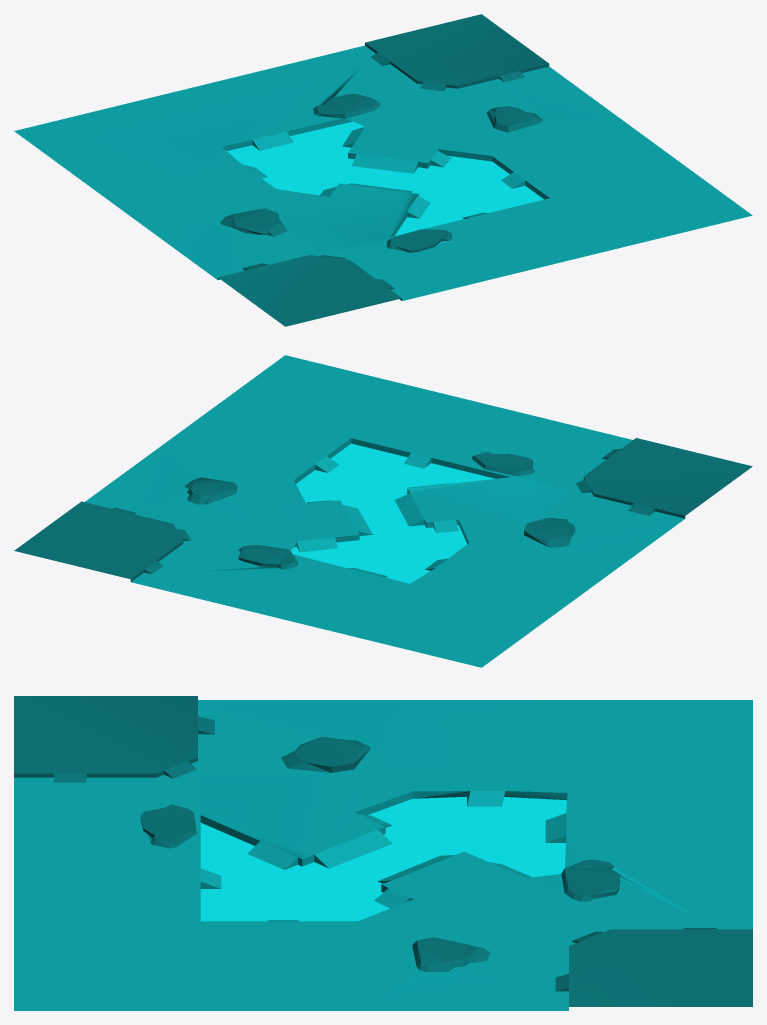
The model's file is Amobus_plain3.fbx.
3 renders of one model, top to bottom at view 1: azimuth 30°, elevation 25°; view 2: azimuth 150°, elevation 25°; view 3: azimuth 270°, elevation 25°, orthographic. The views are drawn at different scales.
Visible parts, largest first — view 1: Amobus_plainNEWWW; view 2: Amobus_plainNEWWW; view 3: Amobus_plainNEWWW.
Boxes of the visible parts, <box> form: Amobus_plainNEWWW: <box>14,14,752,326</box>; Amobus_plainNEWWW: <box>14,355,752,667</box>; Amobus_plainNEWWW: <box>14,696,752,1010</box>.
Size of the model in its own units: 4036 by 84.55 by 4055.
